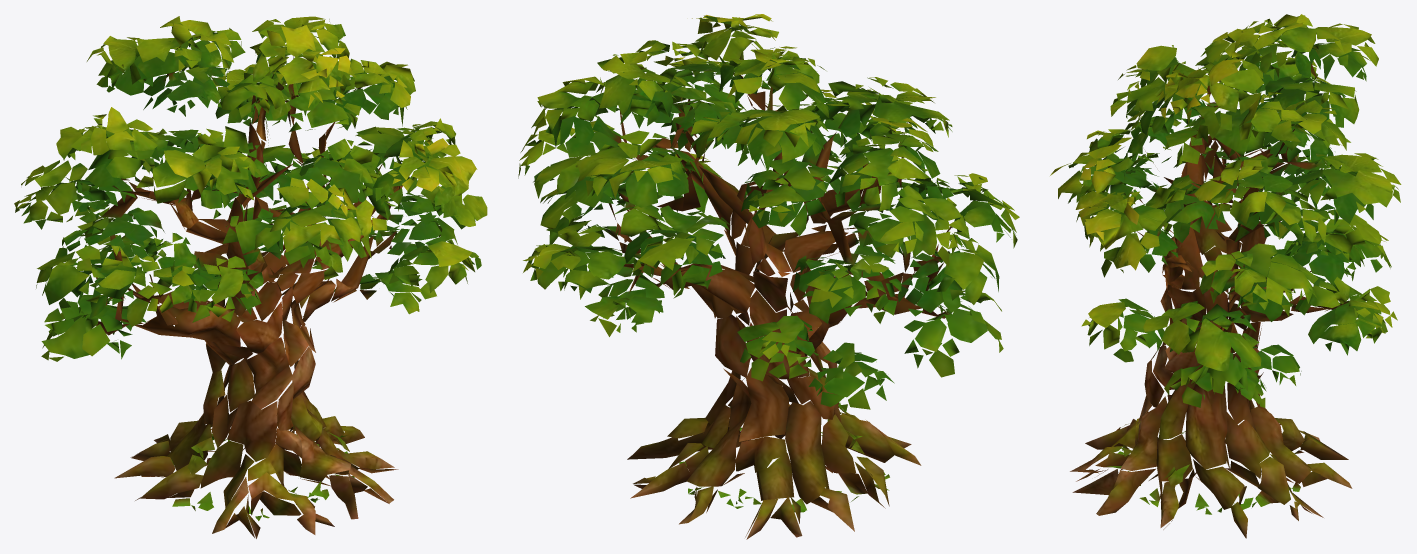
File: oakhi.glb
3 renders of one model, left to right at view 1: azimuth 30°, elevation 25°; view 2: azimuth 150°, elevation 25°; view 3: azimuth 270°, elevation 25°, orthographic. The views are drawn at different scales.
Parts seen in each view (by area): view 1: tripo_node_56676510-7d45-420d-a0e6-0e79ec1b90ca; view 2: tripo_node_56676510-7d45-420d-a0e6-0e79ec1b90ca; view 3: tripo_node_56676510-7d45-420d-a0e6-0e79ec1b90ca.
Boxes of the visible parts, left/top/right/bottom form: tripo_node_56676510-7d45-420d-a0e6-0e79ec1b90ca: left=14, top=16, right=487, bottom=538; tripo_node_56676510-7d45-420d-a0e6-0e79ec1b90ca: left=518, top=14, right=1019, bottom=539; tripo_node_56676510-7d45-420d-a0e6-0e79ec1b90ca: left=1050, top=14, right=1401, bottom=538.
Size of the model in its own units: 10.39 by 10 by 7.23.
Materials: 1 (1 with a texture image).
